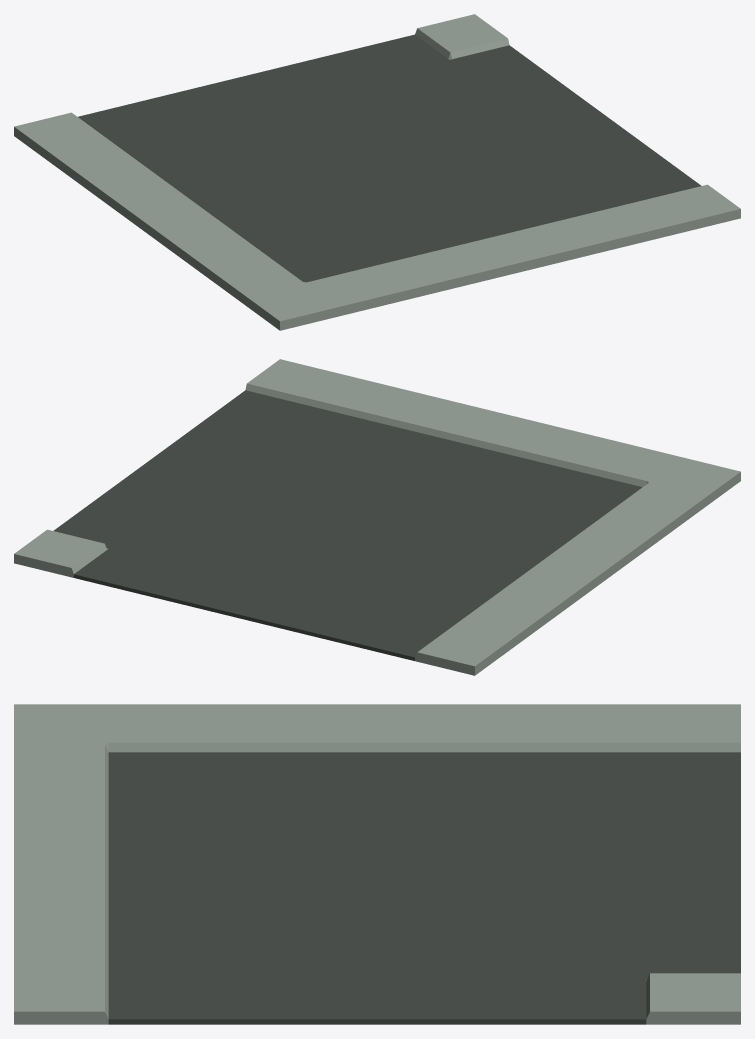
The model's file is road.007.obj.
3 views of the same model, one above another, from view 1: azimuth 30°, elevation 25°; view 2: azimuth 150°, elevation 25°; view 3: azimuth 270°, elevation 25° (orthographic). The views are drawn at different scales.
Parts seen in each view (by area): view 1: Road.007; view 2: Road.007; view 3: Road.007.
Part boxes in pixels (<box>): Road.007: <box>14,14,740,330</box>; Road.007: <box>14,359,740,675</box>; Road.007: <box>14,704,740,1024</box>.
Size of the model in its own units: 2 by 0.0393 by 2.
1 material, 1 textured.
